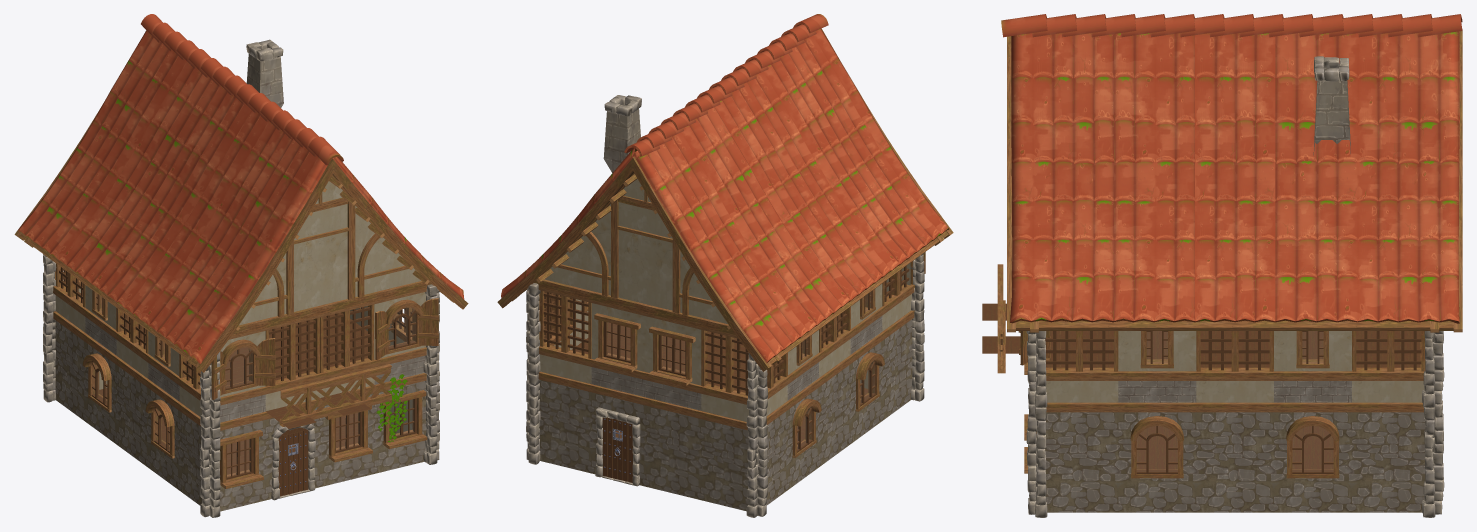
File: house_shop.gltf
3 renders of one model, left to right at view 1: azimuth 30°, elevation 25°; view 2: azimuth 150°, elevation 25°; view 3: azimuth 270°, elevation 25°, orthographic. The views are drawn at different scales.
Visible parts, largest first — view 1: Roof_RoundTiles_8x10, Roof_Front_Brick8, Wall_Plaster_WoodGrid.001, Wall_Plaster_WoodGrid, Wall_UnevenBrick_Straight.004, Wall_UnevenBrick_Straight.003, Wall_UnevenBrick_Window_Wide_Flat.002, Wall_UnevenBrick_Window_Wide_Flat, Wall_UnevenBrick_Window_Wide_Flat.001, Wall_UnevenBrick_Straight.005, Prop_Chimney, Door_2_Round (+29 smaller); view 2: Roof_RoundTiles_8x10, Roof_Front_Brick8.001, Wall_UnevenBrick_Straight.001, Wall_UnevenBrick_Straight, Wall_UnevenBrick_Straight.002, Wall_Plaster_WoodGrid.002, Wall_Plaster_WoodGrid.003, Wall_UnevenBrick_Straight.004, Wall_Plaster_Window_Wide_Flat, Wall_UnevenBrick_Straight.005, Wall_Plaster_Window_Wide_Flat.001, Prop_Chimney (+23 smaller); view 3: Roof_RoundTiles_8x10, Wall_UnevenBrick_Straight.007, Wall_UnevenBrick_Straight.006, Wall_UnevenBrick_Straight.008, Wall_UnevenBrick_Window_Wide_Round.002, Wall_UnevenBrick_Window_Wide_Round.003, Wall_Plaster_WoodGrid.008, Wall_Plaster_Window_Thin_Round.002, Wall_Plaster_Window_Thin_Round.003, Wall_Plaster_WoodGrid.007, Wall_Plaster_WoodGrid.009, Prop_Chimney (+17 smaller).
Boxes of the visible parts, x1,y1,x2,y2 form: Roof_RoundTiles_8x10: (14, 14, 468, 372); Roof_Front_Brick8: (231, 176, 431, 336); Wall_Plaster_WoodGrid.001: (320, 301, 375, 397); Wall_Plaster_WoodGrid: (265, 314, 321, 410); Wall_UnevenBrick_Straight.004: (114, 356, 148, 467); Wall_UnevenBrick_Straight.003: (53, 311, 85, 421); Wall_UnevenBrick_Window_Wide_Flat.002: (374, 373, 426, 473); Wall_UnevenBrick_Window_Wide_Flat: (219, 411, 266, 511); Wall_UnevenBrick_Window_Wide_Flat.001: (320, 386, 375, 486); Wall_UnevenBrick_Straight.005: (177, 402, 201, 505); Prop_Chimney: (246, 39, 283, 107); Door_2_Round: (278, 427, 308, 496); Roof_RoundTiles_8x10: (497, 14, 953, 371); Roof_Front_Brick8.001: (534, 174, 735, 335); Wall_UnevenBrick_Straight.001: (645, 397, 701, 499); Wall_UnevenBrick_Straight: (538, 371, 591, 473); Wall_UnevenBrick_Straight.002: (699, 411, 748, 511); Wall_Plaster_WoodGrid.002: (538, 287, 591, 383); Wall_Plaster_WoodGrid.003: (699, 327, 748, 421); Wall_UnevenBrick_Straight.004: (819, 355, 853, 466); Wall_Plaster_Window_Wide_Flat: (590, 300, 646, 397); Wall_UnevenBrick_Straight.005: (882, 310, 914, 420); Wall_Plaster_Window_Wide_Flat.001: (645, 313, 701, 410); Prop_Chimney: (603, 95, 641, 172); Roof_RoundTiles_8x10: (1001, 14, 1462, 332); Wall_UnevenBrick_Straight.007: (1196, 402, 1273, 512); Wall_UnevenBrick_Straight.006: (1045, 402, 1118, 512); Wall_UnevenBrick_Straight.008: (1352, 402, 1425, 512); Wall_UnevenBrick_Window_Wide_Round.002: (1118, 402, 1196, 512); Wall_UnevenBrick_Window_Wide_Round.003: (1274, 402, 1351, 512); Wall_Plaster_WoodGrid.008: (1196, 331, 1273, 402); Wall_Plaster_Window_Thin_Round.002: (1118, 331, 1196, 402); Wall_Plaster_Window_Thin_Round.003: (1274, 331, 1351, 402); Wall_Plaster_WoodGrid.007: (1045, 331, 1118, 402); Wall_Plaster_WoodGrid.009: (1352, 331, 1424, 402); Prop_Chimney: (1313, 56, 1350, 155).
Size of what is drawn, in the model's own units: 9.95 by 12.25 by 12.35.
Materials: 10 (9 with a texture image).
